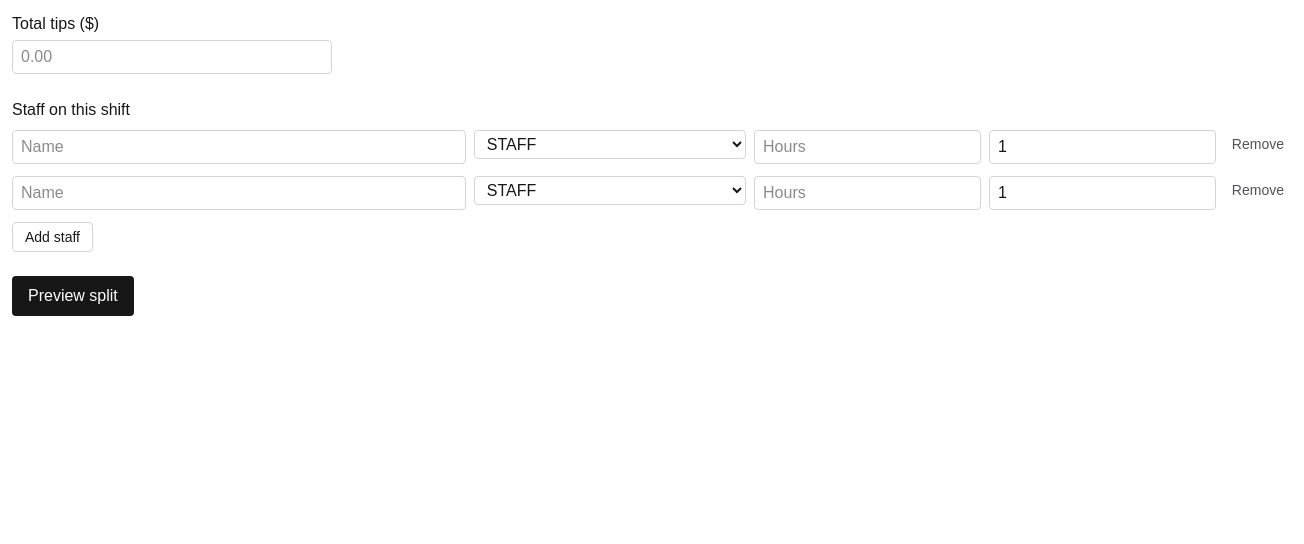
Test: ShiftPreviewForm › shows a preview table whose shares add up to the total
In the field labelled "Total tips ($)": x=172, y=57 [12,40,332,74], type "100.00"
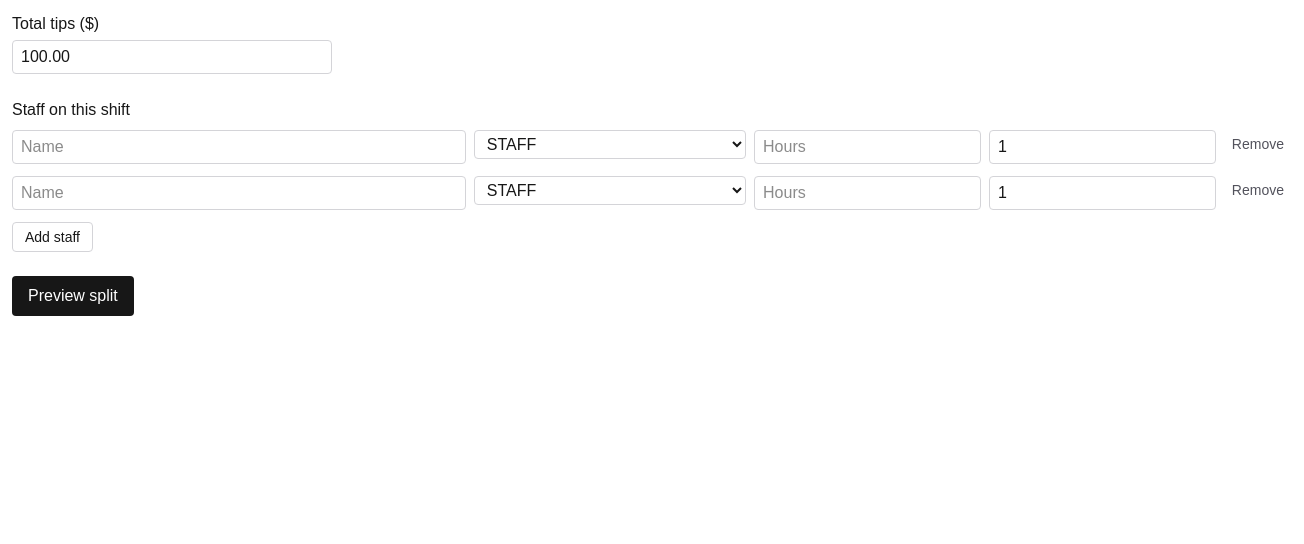
In the field named "Staff 1 name": x=239, y=147 [12,130,466,164], type "Ana"
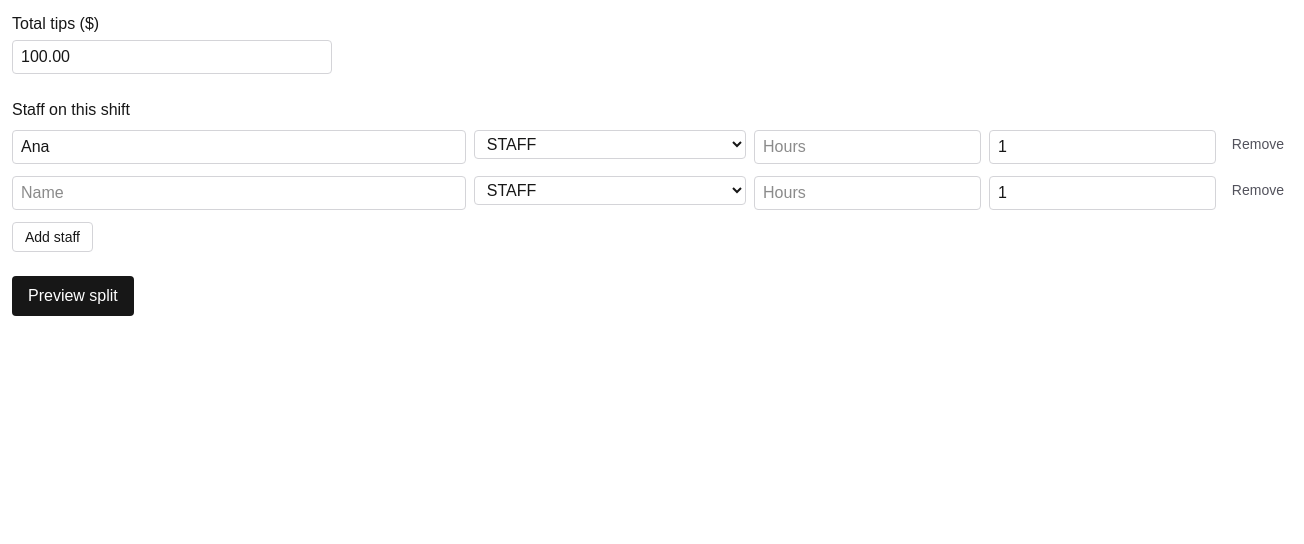
In the field named "Staff 1 hours": x=868, y=147 [754,130,981,164], type "6"
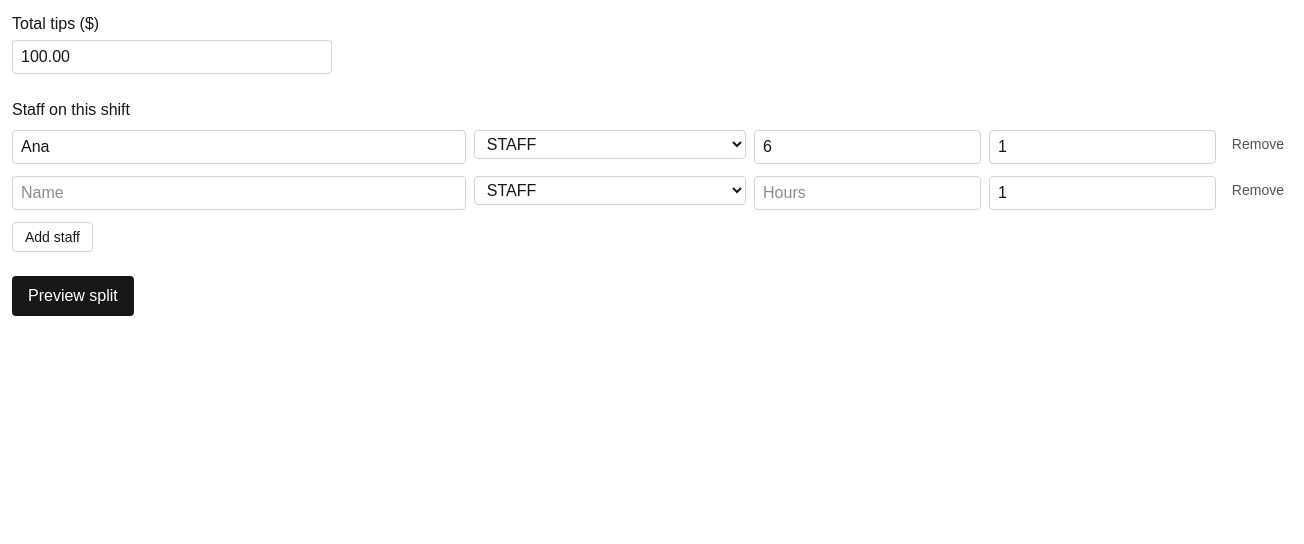
In the field named "Staff 2 name": x=239, y=193 [12,176,466,210], type "Ben"
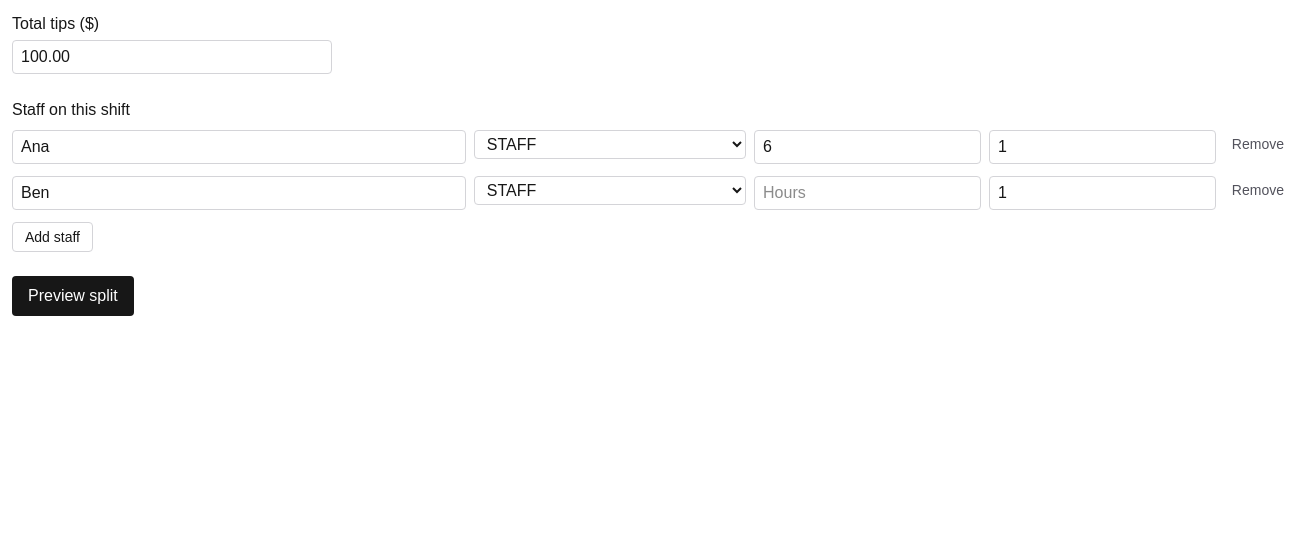
In the field named "Staff 2 hours": x=868, y=193 [754,176,981,210], type "4"
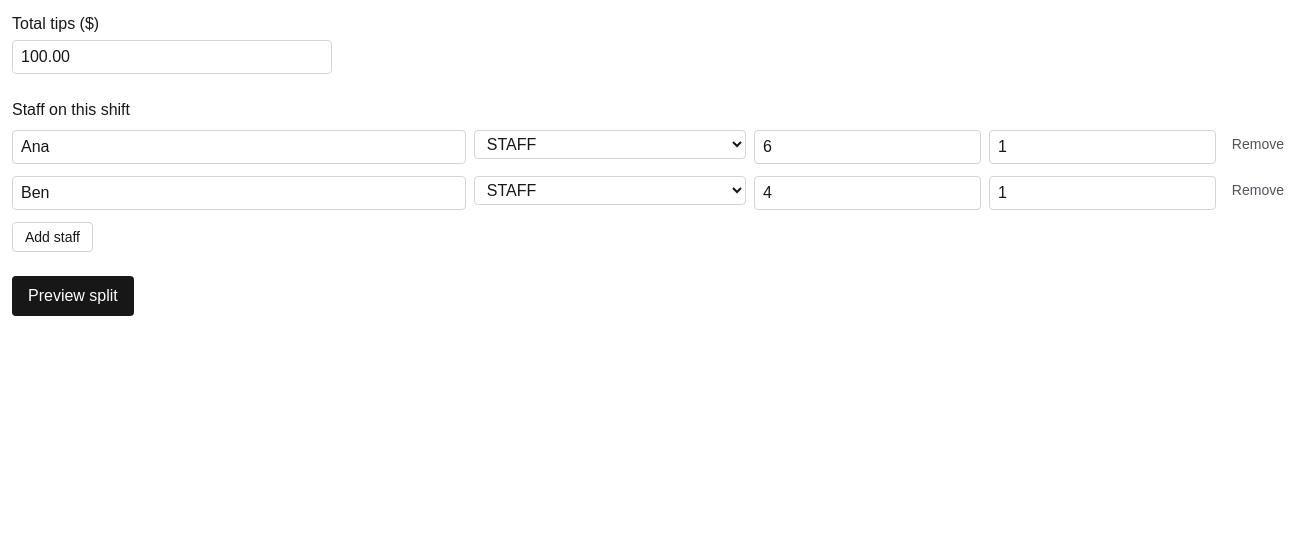
Click the button "Preview split": x=73, y=296 [12,276,134,316]
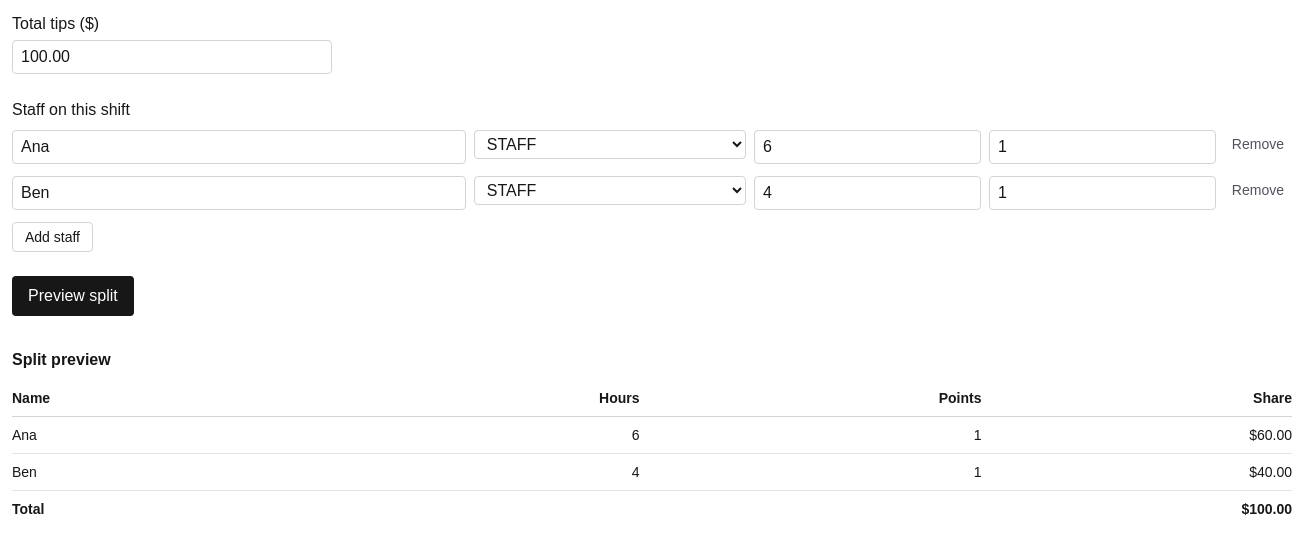
Now the rows read "NameHoursPointsShare", "Ana61$60.00", "Ben41$40.00", "Total$100.00", in this order, box [12,380,1292,416]; [12,416,1292,454]; [12,454,1292,490]; [12,490,1292,527]
